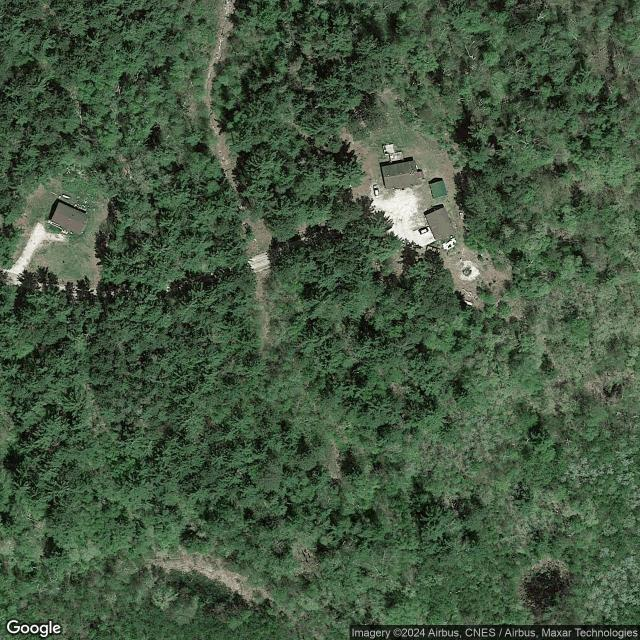Propane: (61, 192, 71, 200)
